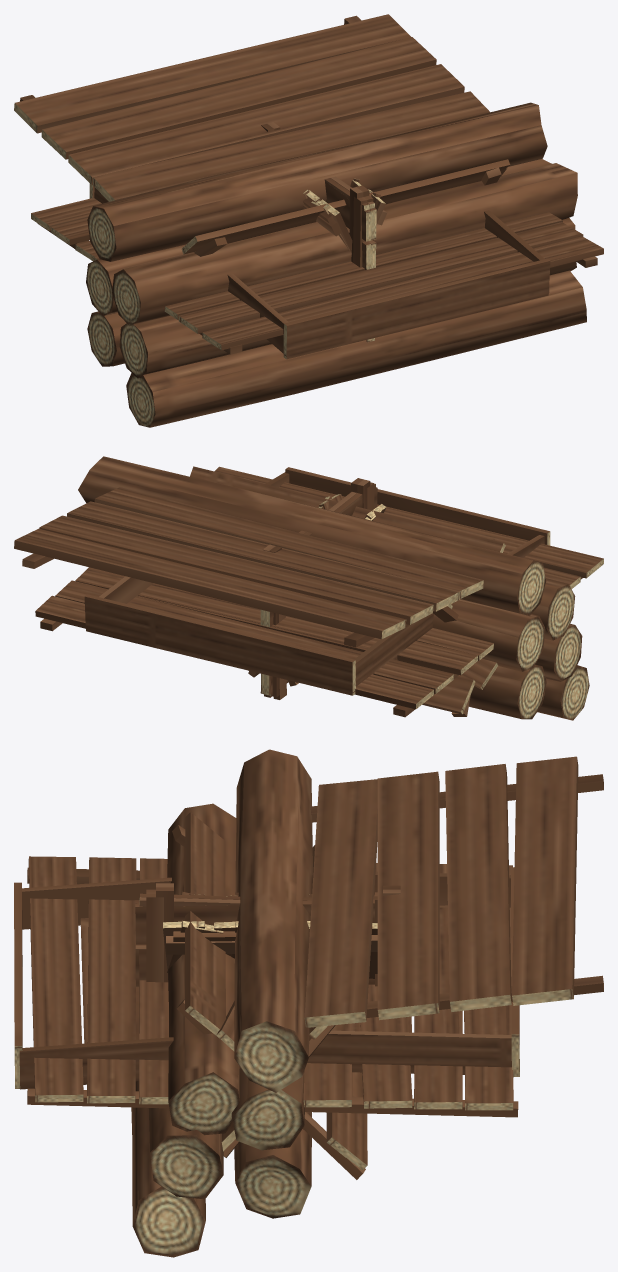
The model's file is Vehicles_CarNormal_Wood_o.fbx.
The picture shows the model from 3 angles, top to bottom: view 1: azimuth 30°, elevation 25°; view 2: azimuth 150°, elevation 25°; view 3: azimuth 270°, elevation 25°; orthographic projection. The views are drawn at different scales.
Parts seen in each view (by area): view 1: normal_wood_trunk_armor, normal_wood_bullbar_armor, normal_wood_hood_armor, normal_wood_roofrack, normal_wood_windshield_armor, normal_wood_front_left_door_armor, normal_wood_front_right_door_armor, normal_wood_front_right_window_armor; view 2: normal_wood_trunk_armor, normal_wood_bullbar_armor, normal_wood_roofrack, normal_wood_hood_armor, normal_wood_windshield_armor, normal_wood_front_right_door_armor, normal_wood_front_left_door_armor, normal_wood_rear_right_door_armor, normal_wood_rear_left_door_armor; view 3: normal_wood_trunk_armor, normal_wood_hood_armor, normal_wood_bullbar_armor, normal_wood_roofrack, normal_wood_windshield_armor, normal_wood_front_right_door_armor, normal_wood_front_left_door_armor, normal_wood_rear_left_window_armor, normal_wood_front_left_window_armor, normal_wood_rear_right_door_armor, normal_wood_rear_left_door_armor, normal_wood_rear_windshield_armor.
Part boxes in pixels (x1,y1,x2,y2): normal_wood_trunk_armor: (14, 14, 586, 427); normal_wood_bullbar_armor: (86, 102, 551, 366); normal_wood_hood_armor: (31, 198, 603, 354); normal_wood_roofrack: (89, 183, 550, 359); normal_wood_windshield_armor: (181, 159, 510, 256); normal_wood_front_left_door_armor: (267, 122, 373, 342); normal_wood_front_right_door_armor: (261, 124, 376, 341); normal_wood_front_right_window_armor: (303, 190, 352, 251); normal_wood_trunk_armor: (14, 487, 589, 720); normal_wood_bullbar_armor: (78, 456, 546, 719); normal_wood_roofrack: (84, 467, 550, 695); normal_wood_hood_armor: (35, 466, 603, 717); normal_wood_windshield_armor: (190, 466, 505, 716); normal_wood_front_right_door_armor: (260, 482, 374, 697); normal_wood_front_left_door_armor: (260, 487, 377, 694); normal_wood_rear_right_door_armor: (264, 479, 370, 699); normal_wood_rear_left_door_armor: (264, 478, 375, 697); normal_wood_trunk_armor: (131, 756, 603, 1257); normal_wood_hood_armor: (27, 856, 518, 1117); normal_wood_bullbar_armor: (231, 749, 312, 1218); normal_wood_roofrack: (14, 867, 519, 1089); normal_wood_windshield_armor: (172, 812, 367, 1179); normal_wood_front_right_door_armor: (135, 885, 400, 986); normal_wood_front_left_door_armor: (135, 889, 400, 982); normal_wood_rear_left_window_armor: (166, 921, 377, 978); normal_wood_front_left_window_armor: (163, 921, 310, 969); normal_wood_rear_right_door_armor: (139, 883, 377, 986); normal_wood_rear_left_door_armor: (139, 887, 377, 986); normal_wood_rear_windshield_armor: (221, 845, 335, 1157).
Size of the model in its own units: 0.9248 by 0.3945 by 0.832.
